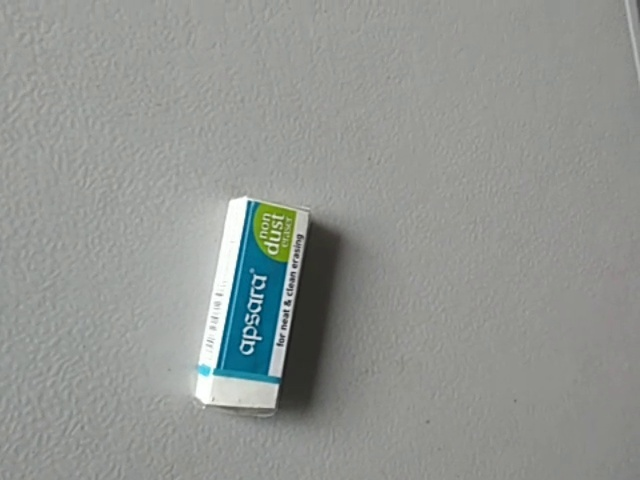Eraser: (191, 194, 314, 421)
